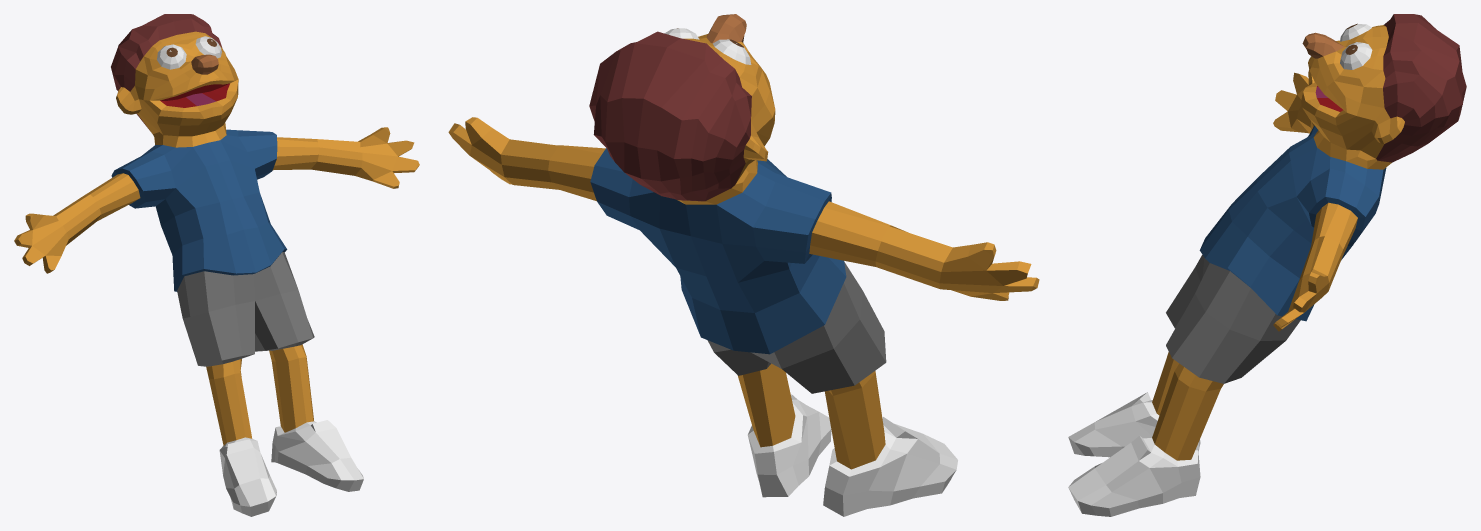
The model's file is modelo.glb.
3 renders of one model, left to right at view 1: azimuth 30°, elevation 25°; view 2: azimuth 150°, elevation 25°; view 3: azimuth 270°, elevation 25°, orthographic. The views are drawn at different scales.
Parts seen in each view (by area): view 1: Plano; view 2: Plano; view 3: Plano.
Boxes of the visible parts, <box> form: Plano: <box>14,14,419,516</box>; Plano: <box>448,14,1039,516</box>; Plano: <box>1068,14,1466,516</box>.
Bounding box in the file's own units: 1.85 × 1.72 × 1.35.
